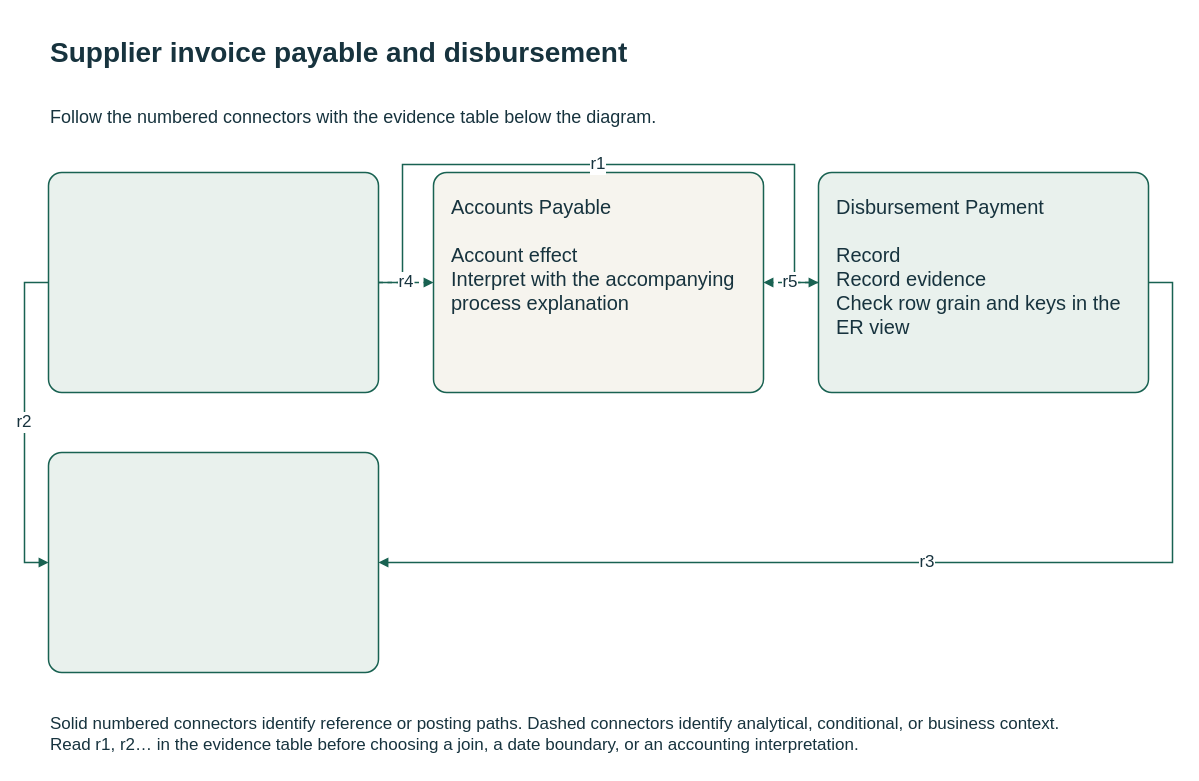
This 1199x781 diagram has some shape labels left out. The box of each missing label's shape, as (x1, y1, x2, y2) in pixels:
GLEntry Record Record evidence Check row grain and keys in the ER view: (47, 451, 379, 673)
Purchase Invoice Record Record evidence Check row grain and keys in the ER view: (47, 171, 379, 393)
